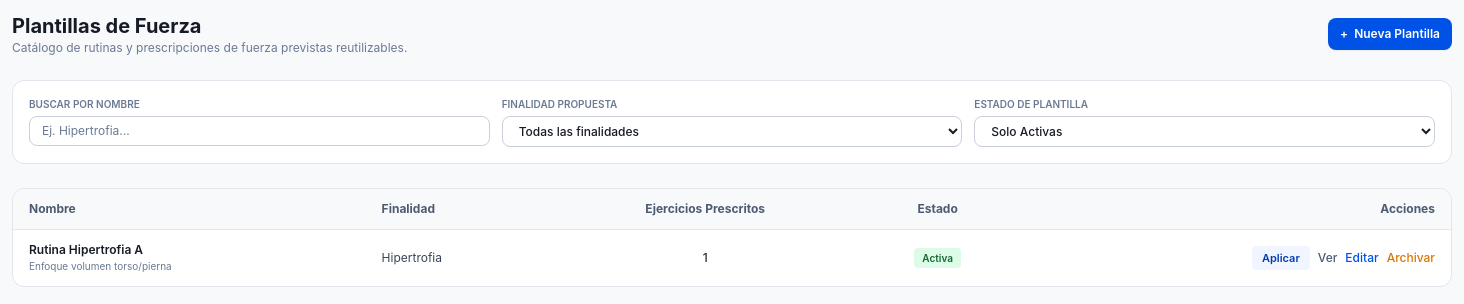
Test case: TemplateListPage & Flujo de Plantillas (Bloque 5) › 1. Renderiza catálogo de plantillas activas por defecto y respeta filtros por estado y finalidad
Expected: the heading "Plantillas de Fuerza" is shown, [12, 14, 202, 38]
Expected: the text "Rutina Hipertrofia A" is shown, [29, 242, 143, 257]
Note: Cambiar filtro a "Solo Archivadas"
Select "Solo Archivadas" in the dropdown below "Estado de Plantilla". click: (1205, 132)
box: [974, 116, 1435, 147]
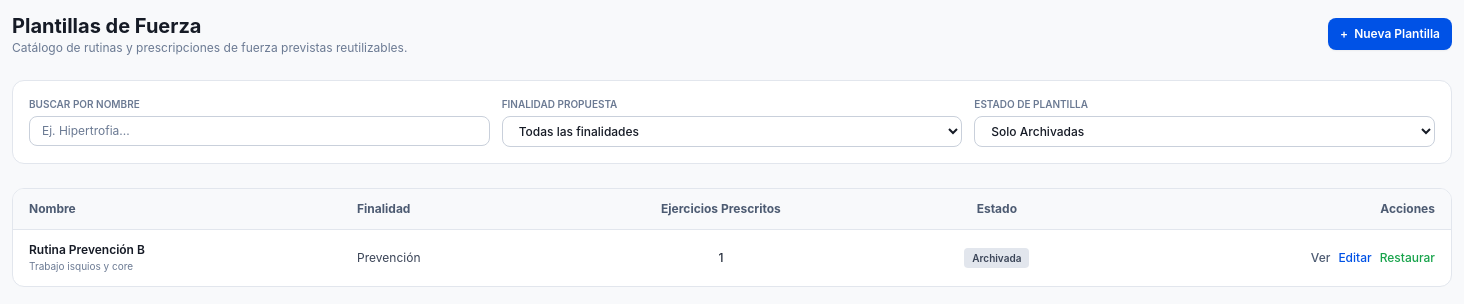
Now the text "Rutina Hipertrofia A" is gone
Now the text "Rutina Prevención B" is shown, box [29, 242, 145, 257]
